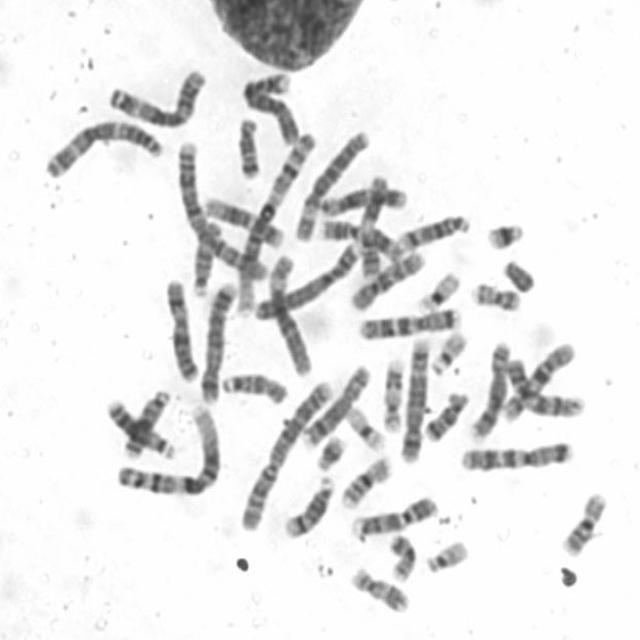A1: (230, 128, 320, 322), (111, 396, 224, 499)
A2: (235, 373, 335, 533), (171, 134, 275, 285)
A3: (39, 112, 165, 181), (103, 61, 210, 130)
B4: (251, 235, 362, 322), (237, 66, 303, 146)
B5: (196, 274, 240, 406), (395, 329, 433, 464)
C10: (498, 336, 578, 422), (345, 244, 428, 313)
C11: (316, 212, 406, 262), (355, 170, 390, 279)
C12: (198, 190, 286, 251), (316, 180, 411, 219)
C6: (291, 125, 372, 243), (264, 247, 316, 377)
C7: (454, 434, 576, 474), (354, 300, 464, 342)
C8: (297, 358, 373, 450), (465, 335, 513, 442)
C9: (502, 352, 588, 419), (346, 488, 440, 540)
D13: (102, 392, 180, 461), (117, 383, 174, 461)
D14: (278, 468, 337, 540), (393, 207, 472, 253)
D15: (187, 214, 224, 298), (217, 366, 291, 406)
E16: (557, 485, 610, 558), (337, 450, 395, 510)
E17: (347, 560, 413, 615), (377, 351, 406, 434)
E18: (419, 384, 471, 444), (233, 110, 264, 180)
F19: (341, 400, 389, 452), (412, 266, 462, 314)
F20: (466, 275, 523, 313), (384, 527, 420, 583)
G21: (482, 214, 528, 252), (311, 428, 349, 473)
G22: (426, 323, 470, 377), (421, 533, 471, 575)
X: (160, 271, 202, 383)
Y: (498, 253, 538, 294)
